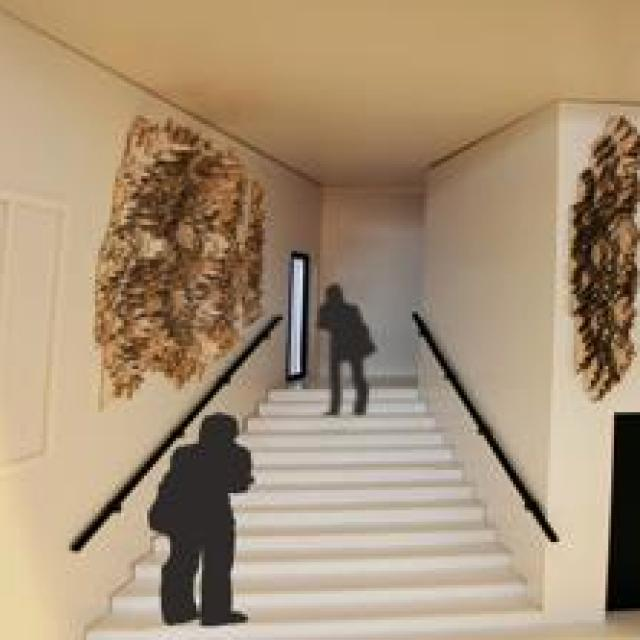upstair: (140, 543, 512, 640)
